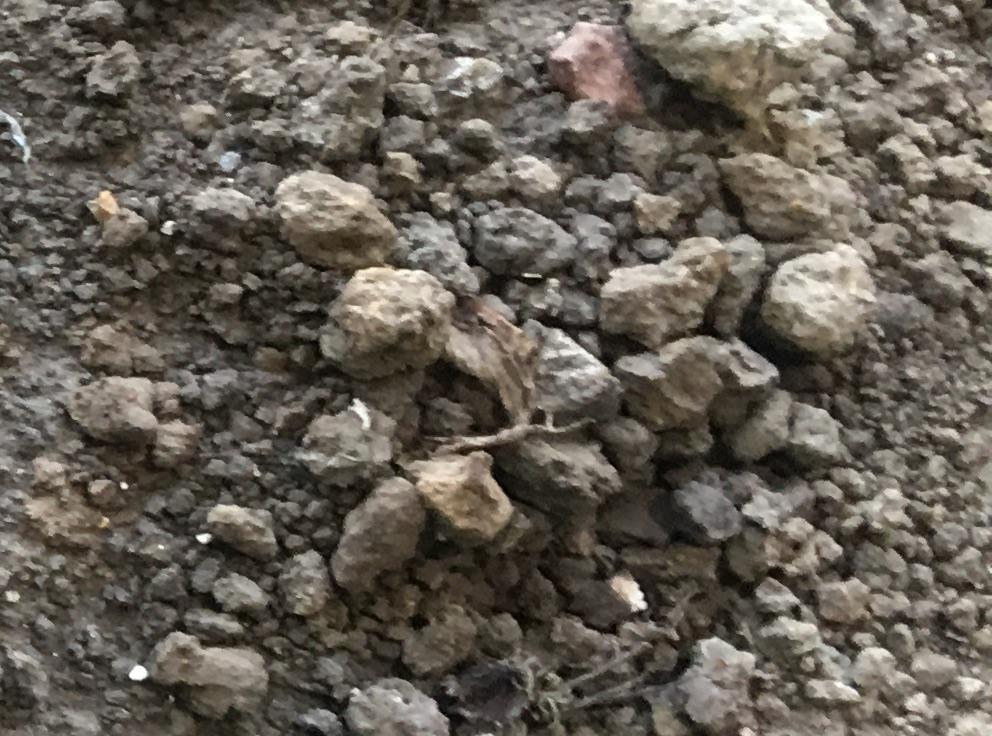block: (623, 1, 848, 113), (317, 267, 452, 377), (597, 236, 718, 347), (275, 170, 392, 267), (765, 245, 871, 352)
